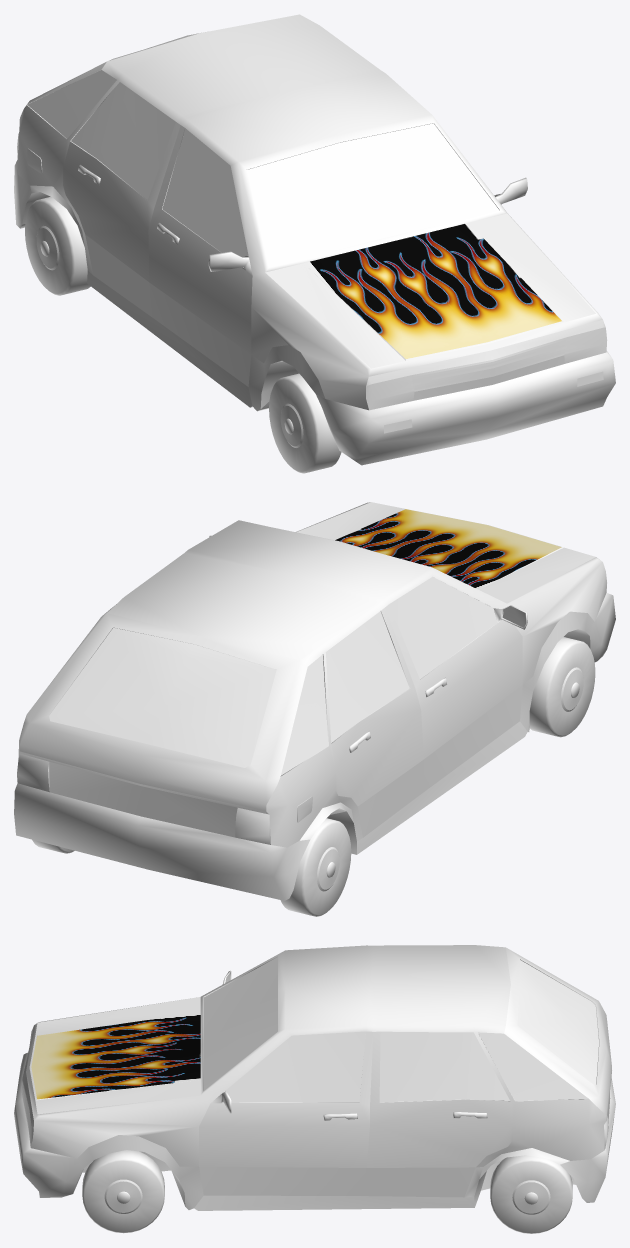
Rendered from auto.obj.
3 renders of one model, top to bottom at view 1: azimuth 30°, elevation 25°; view 2: azimuth 150°, elevation 25°; view 3: azimuth 270°, elevation 25°, orthographic. The views are drawn at different scales.
Parts seen in each view (by area): view 1: Circle.004_Circle.000; view 2: Circle.004_Circle.000; view 3: Circle.004_Circle.000.
Boxes of the visible parts, box(x1,y1,x2,y2) form: Circle.004_Circle.000: box(14, 14, 615, 473); Circle.004_Circle.000: box(14, 502, 615, 916); Circle.004_Circle.000: box(14, 945, 615, 1233).
Bounding box in the file's own units: 3.2 × 2.27 × 6.27.
